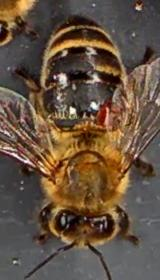varroa_mite: (84, 92, 124, 131)
